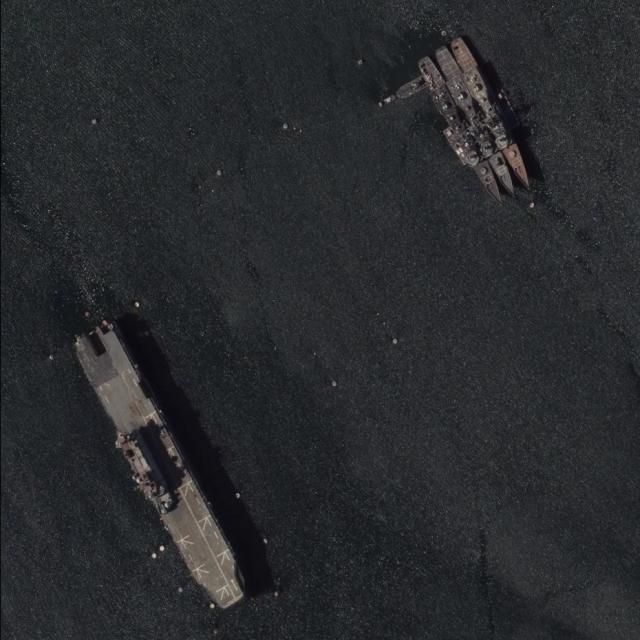Frigate: (413, 52, 509, 211), (447, 33, 538, 194), (431, 43, 522, 204)
Landing: (63, 316, 254, 615)
